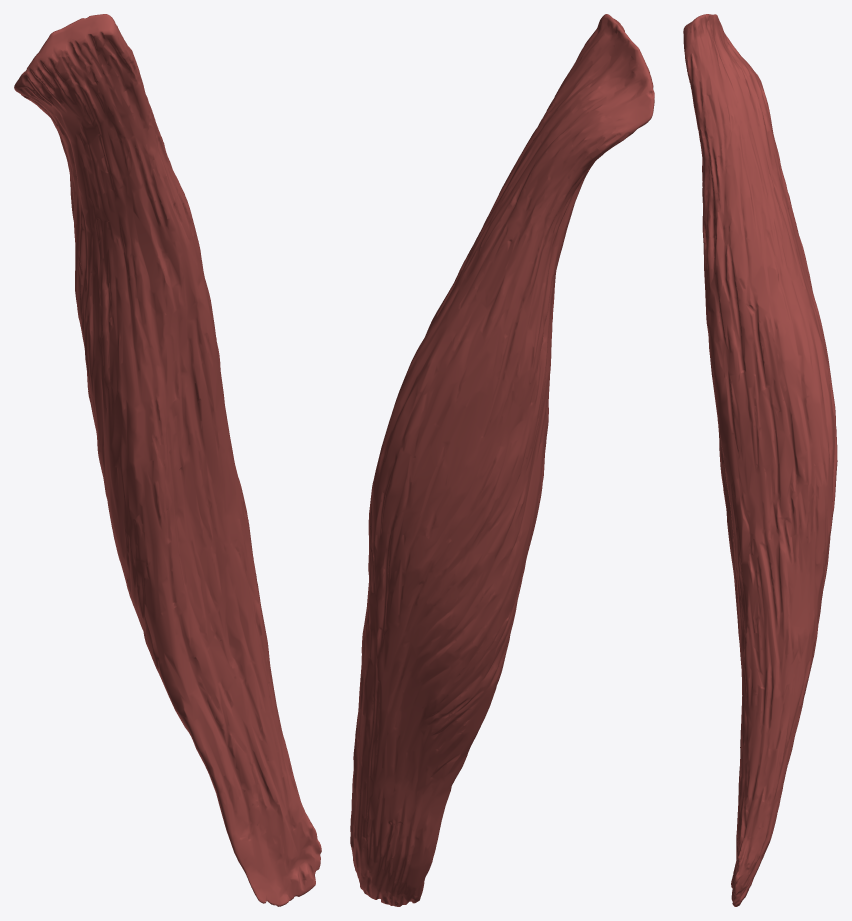
File: FMA37700.glb
3 views of the same model, side by side, from view 1: azimuth 30°, elevation 25°; view 2: azimuth 150°, elevation 25°; view 3: azimuth 270°, elevation 25° (orthographic). The views are drawn at different scales.
Parts seen in each view (by area): view 1: FMA37700; view 2: FMA37700; view 3: FMA37700.
Boxes of the visible parts, x1,y1,x2,y2 form: FMA37700: (14,14,321,906); FMA37700: (350,14,654,906); FMA37700: (683,14,837,906).
Bounding box in the file's own units: 0.0887 × 0.2634 × 0.0458.
